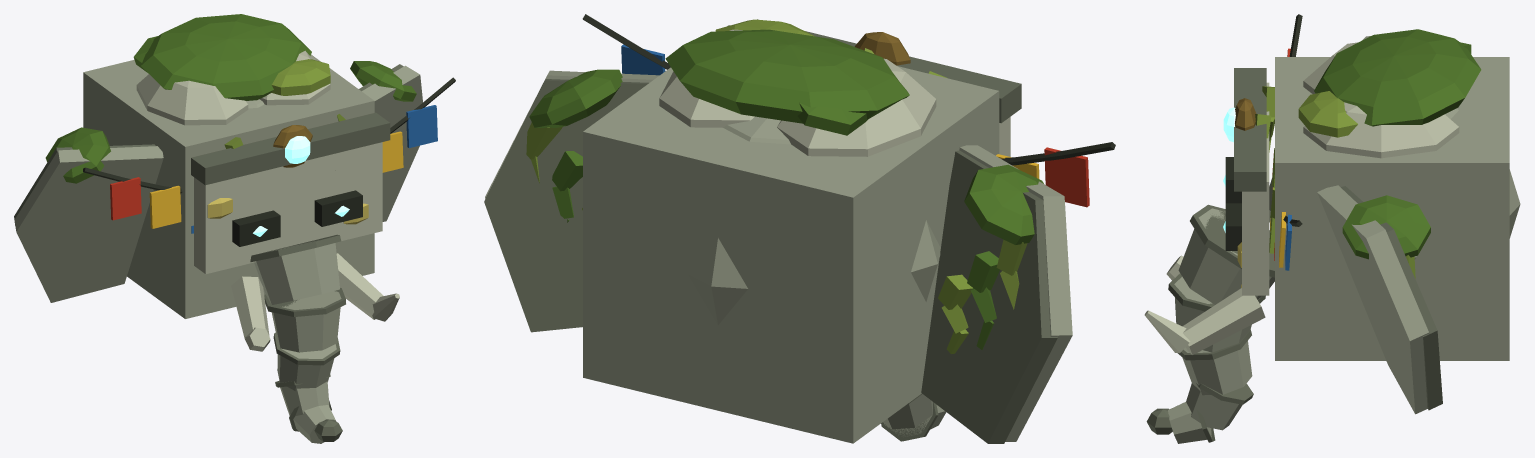
Rendered from terrace_colossus_head.glb.
3 renders of one model, left to right at view 1: azimuth 30°, elevation 25°; view 2: azimuth 150°, elevation 25°; view 3: azimuth 270°, elevation 25°, orthographic. The views are drawn at different scales.
Visible parts, largest first — view 1: terrace_colossus_head; view 2: terrace_colossus_head; view 3: terrace_colossus_head.
Boxes of the visible parts, x1,y1,x2,y2 form: terrace_colossus_head: [14, 14, 455, 443]; terrace_colossus_head: [484, 14, 1115, 443]; terrace_colossus_head: [1144, 14, 1520, 443].
Size of the model in its own units: 1.99 by 1.57 by 1.38.
